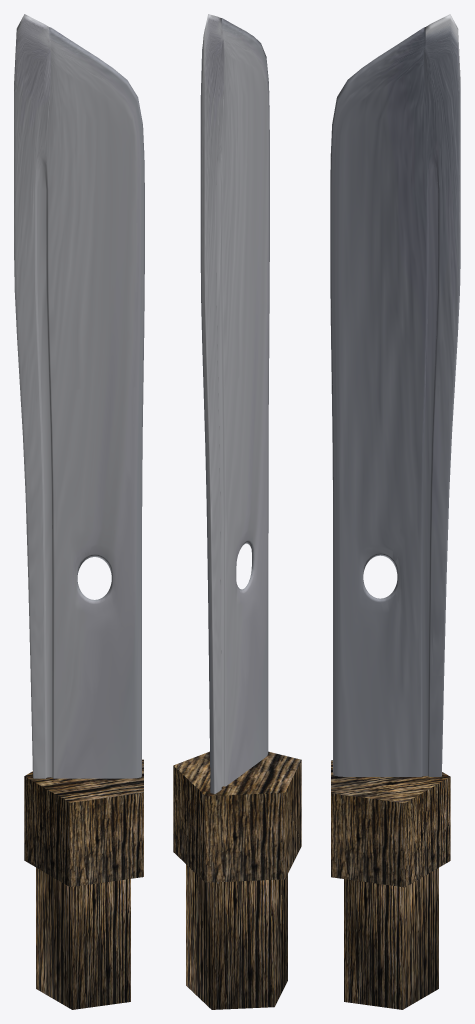
The model's file is machete.fbx.
3 views of the same model, side by side, from view 1: azimuth 90°, elevation 25°; view 2: azimuth 150°, elevation 25°; view 3: azimuth 270°, elevation 25° (orthographic). The views are drawn at different scales.
Parts seen in each view (by area): view 1: mainblade, handle; view 2: mainblade, handle; view 3: mainblade, handle.
Boxes of the visible parts, bbox=[...] form: mainblade: bbox=[14, 14, 144, 778]; handle: bbox=[24, 759, 143, 1009]; mainblade: bbox=[200, 14, 269, 883]; handle: bbox=[173, 751, 301, 1009]; mainblade: bbox=[330, 14, 460, 776]; handle: bbox=[331, 760, 450, 1009].
Bounding box in the file's own units: 22.42 × 192 × 23.29.
